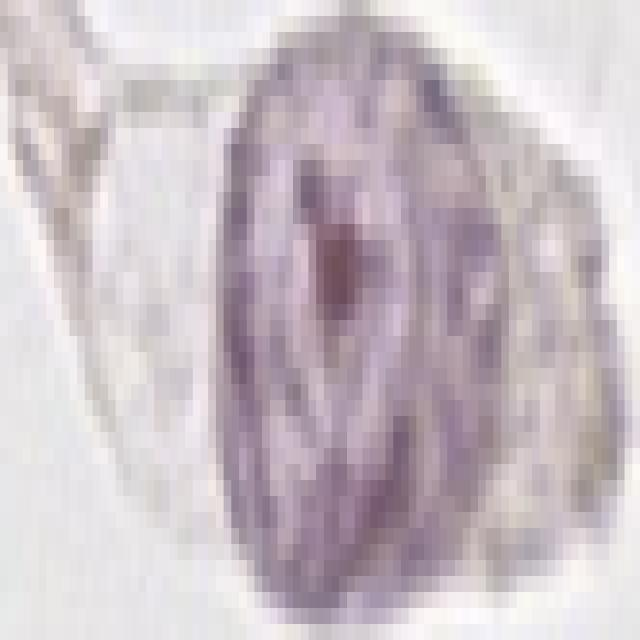nucleus: (197, 30, 510, 621)
